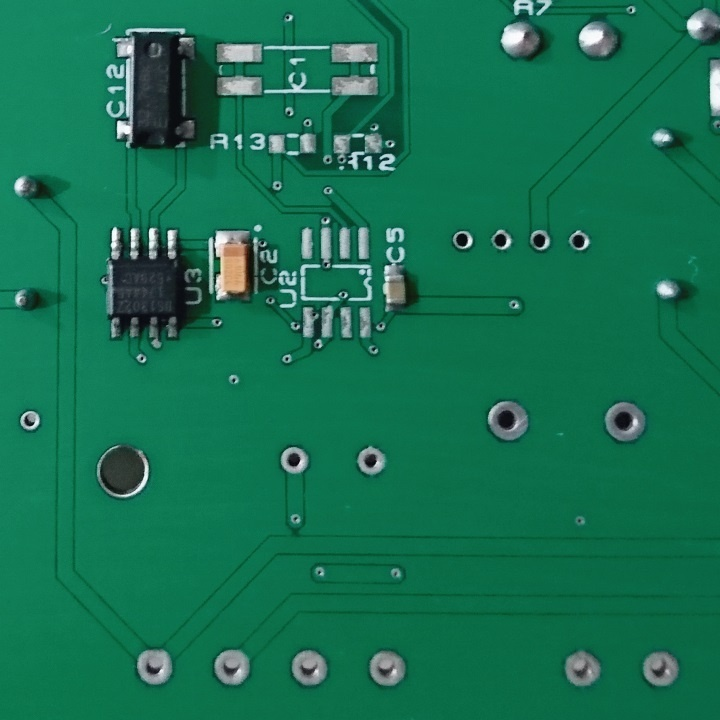F: (484, 398, 535, 448), (599, 398, 650, 448), (561, 646, 606, 693), (287, 646, 330, 693), (213, 645, 255, 691), (367, 649, 411, 692), (132, 648, 177, 689), (640, 647, 681, 690), (354, 444, 390, 481), (279, 443, 310, 479), (448, 228, 477, 257), (17, 409, 44, 435), (567, 227, 591, 256), (488, 228, 514, 254), (527, 229, 552, 255)
